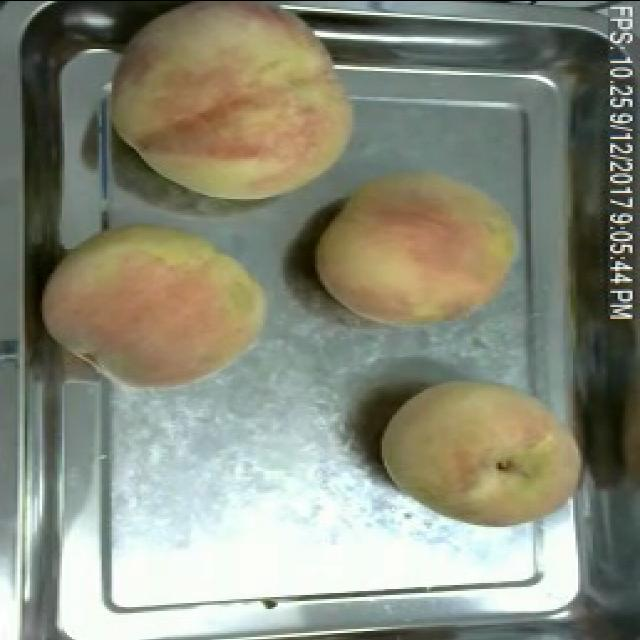Fruit: (99, 2, 365, 210), (30, 204, 280, 400), (307, 160, 531, 336), (372, 366, 593, 538)
